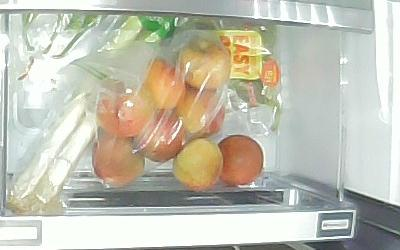prune: (173, 137, 223, 191), (217, 135, 265, 186)
prune_vinyl: (178, 38, 231, 89), (92, 135, 145, 185), (133, 112, 185, 162), (97, 93, 150, 137), (177, 88, 225, 136), (141, 56, 183, 108)
